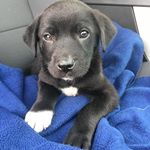puppy: (16, 1, 122, 150)
